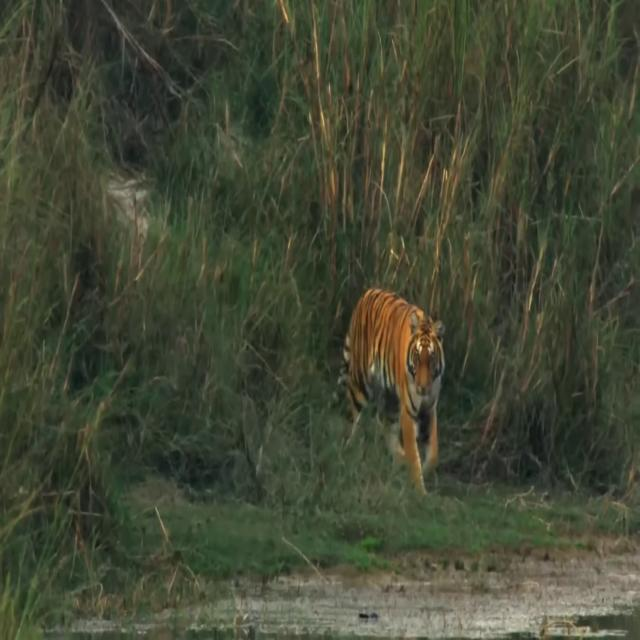tiger: (328, 287, 446, 499)
